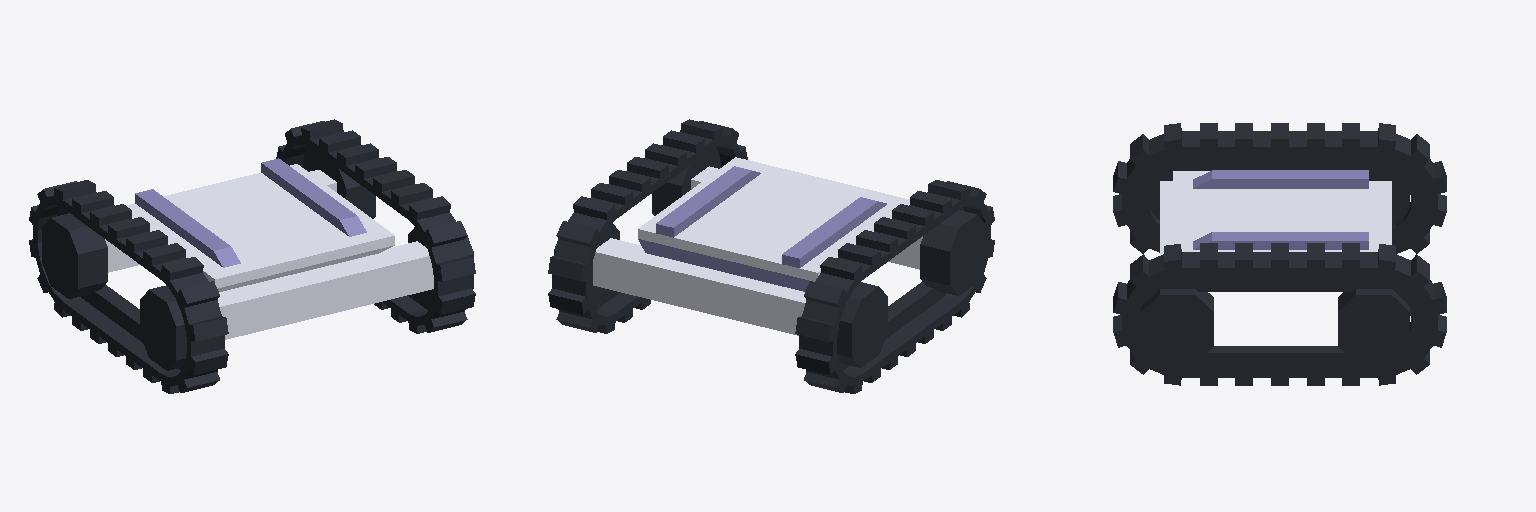
Rendered from land_drone.obj.
3 renders of one model, left to right at view 1: azimuth 30°, elevation 25°; view 2: azimuth 150°, elevation 25°; view 3: azimuth 270°, elevation 25°, orthographic.
Parts seen in each view (by area): view 1: land_drone; view 2: land_drone; view 3: land_drone.
Boxes of the visible parts, x1=… form: land_drone: x1=29, y1=119, x2=475, y2=393; land_drone: x1=548, y1=119, x2=994, y2=393; land_drone: x1=1113, y1=123, x2=1446, y2=385.
Size of the model in its own units: 1.93 by 0.7794 by 1.87.